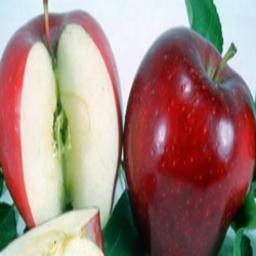apple: (125, 29, 255, 252)
